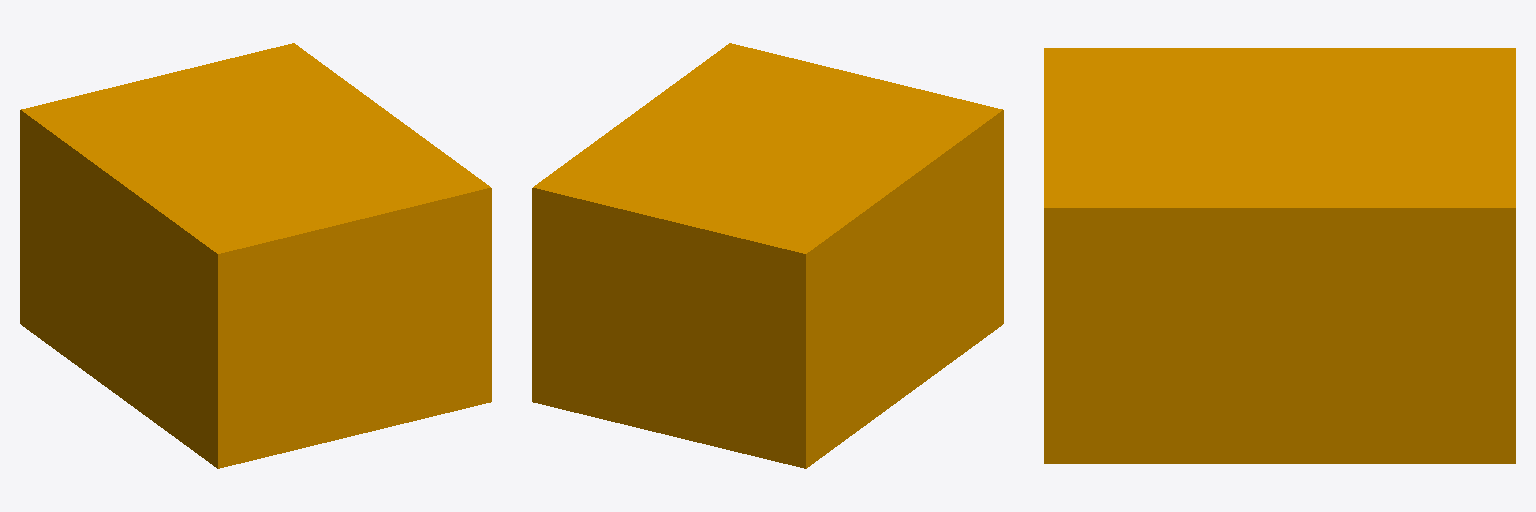
robot.urdf — object:
<?xml version="0.0"?>
	<robot name="object">
		<link name="object">
			<visual>
				<origin xyz="0 0 0"/>
				<geometry>
					<box size="0.4 0.5 0.3"/>
				</geometry>
			</visual>
			<inertial>
				<mass value="6.000"/>
			</inertial>
			<collision>
				<origin xyz="0 0 0"/>
				<geometry>
					<box size="0.4 0.5 0.3"/>
				</geometry>
			</collision>
		</link>

	</robot>

--- Facts derived from the render (not from the file) ---
The picture shows the robot from 3 angles, left to right: view 1: azimuth 30°, elevation 25°; view 2: azimuth 150°, elevation 25°; view 3: azimuth 270°, elevation 25°; orthographic projection.
Model object with 1 links and 0 joints (none), rooted at object, posed every joint at zero.
Visible links, largest first — view 1: object; view 2: object; view 3: object.
Boxes of the visible links, left/top/right/bottom form: object: left=20, top=43, right=491, bottom=468; object: left=532, top=43, right=1003, bottom=468; object: left=1044, top=48, right=1515, bottom=463.
Bounding box of the posed robot: 0.4 × 0.5 × 0.3 m (x, y, z).
Geometry: primitives only (box / cylinder / sphere), no mesh files.